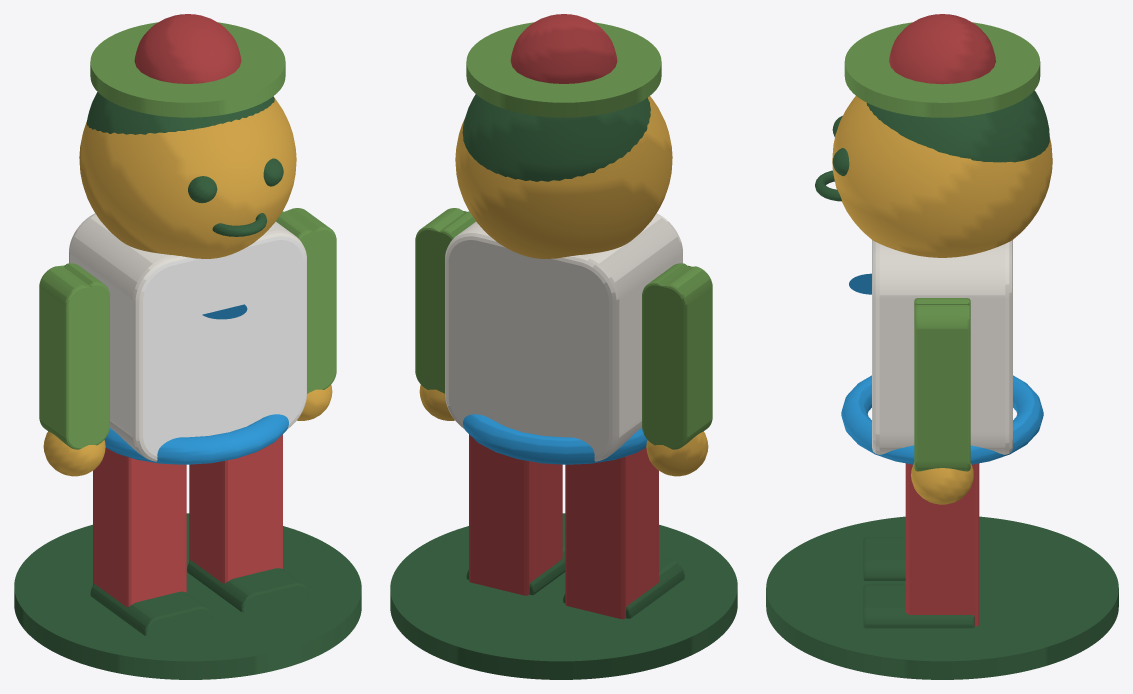
3 views of the same model, side by side, from view 1: azimuth 30°, elevation 25°; view 2: azimuth 150°, elevation 25°; view 3: azimuth 270°, elevation 25° (orthographic).
Parts seen in each view (by area): view 1: card_1106; view 2: card_1106; view 3: card_1106.
Part boxes in pixels (x1=…): card_1106: x1=14, y1=14, x2=361, y2=679; card_1106: x1=390, y1=14, x2=737, y2=679; card_1106: x1=766, y1=14, x2=1118, y2=679.
Size of the model in its own units: 0.5275 by 1 by 0.5371.
